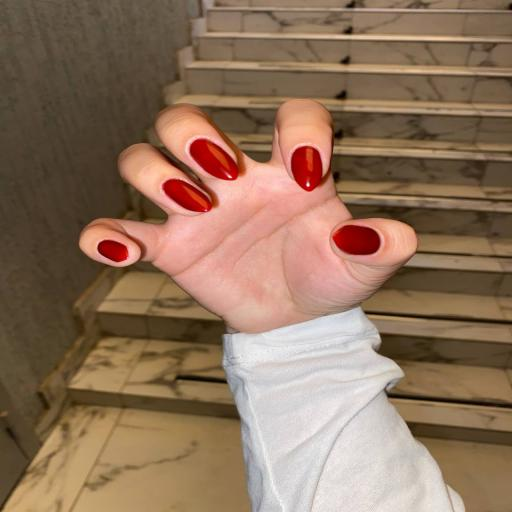laptop: (79, 99, 464, 512)
sofa: (54, 0, 511, 454)
